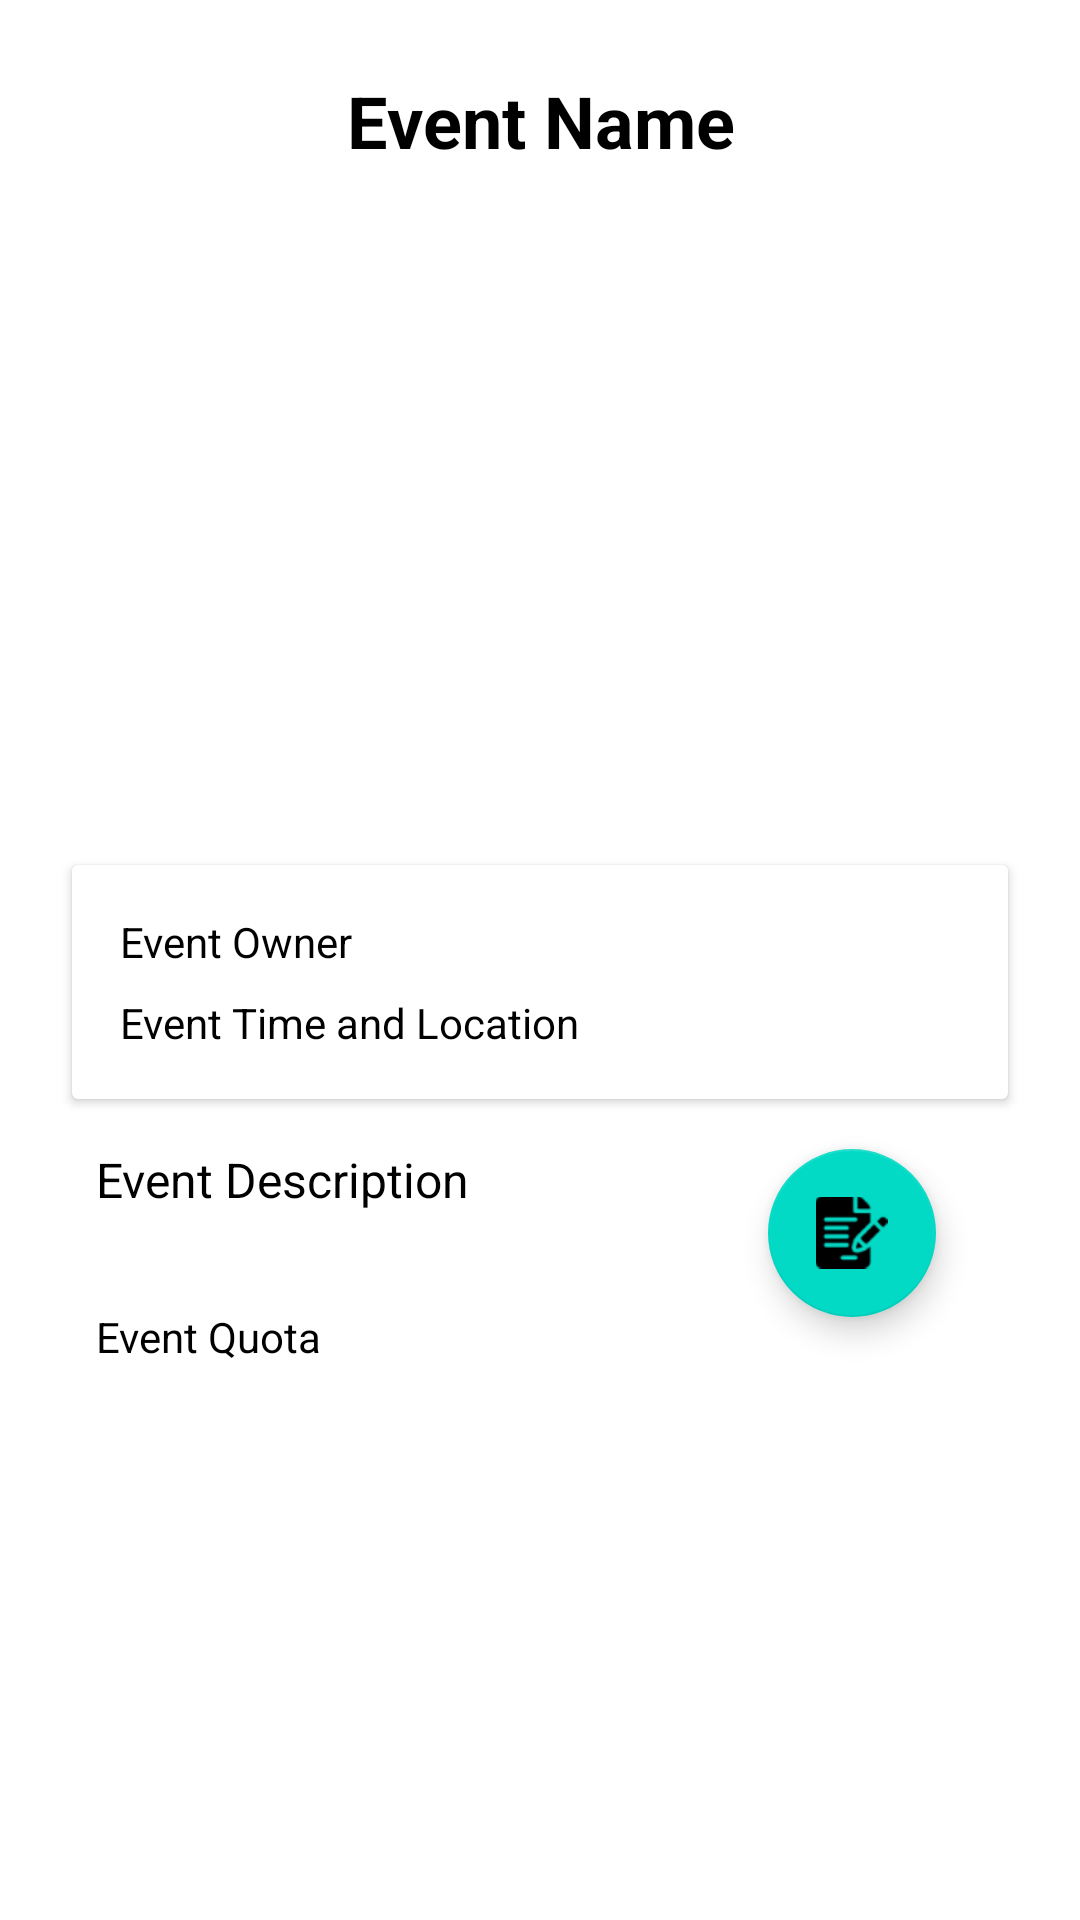

Screen size 1080 × 1920. Icon name, then its center in pixels as (x,y):
register: (852,1233)
